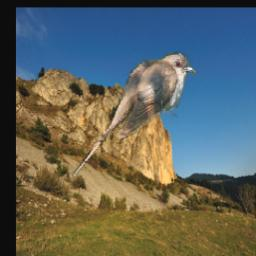Cuckoo: (73, 51, 197, 178)
